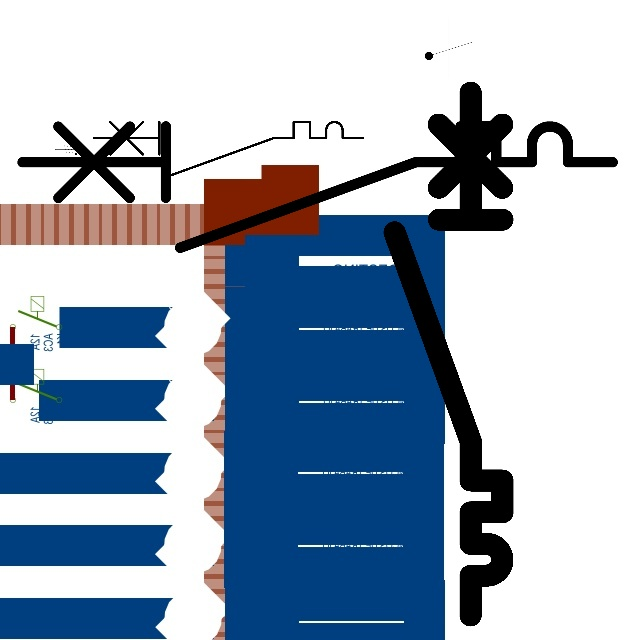interruptor_termomagnetico: (7, 111, 628, 263), (381, 79, 516, 629), (87, 115, 370, 184)
